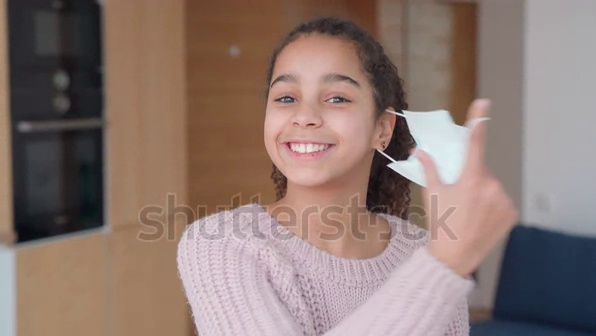No Mask: (244, 111, 373, 187)
